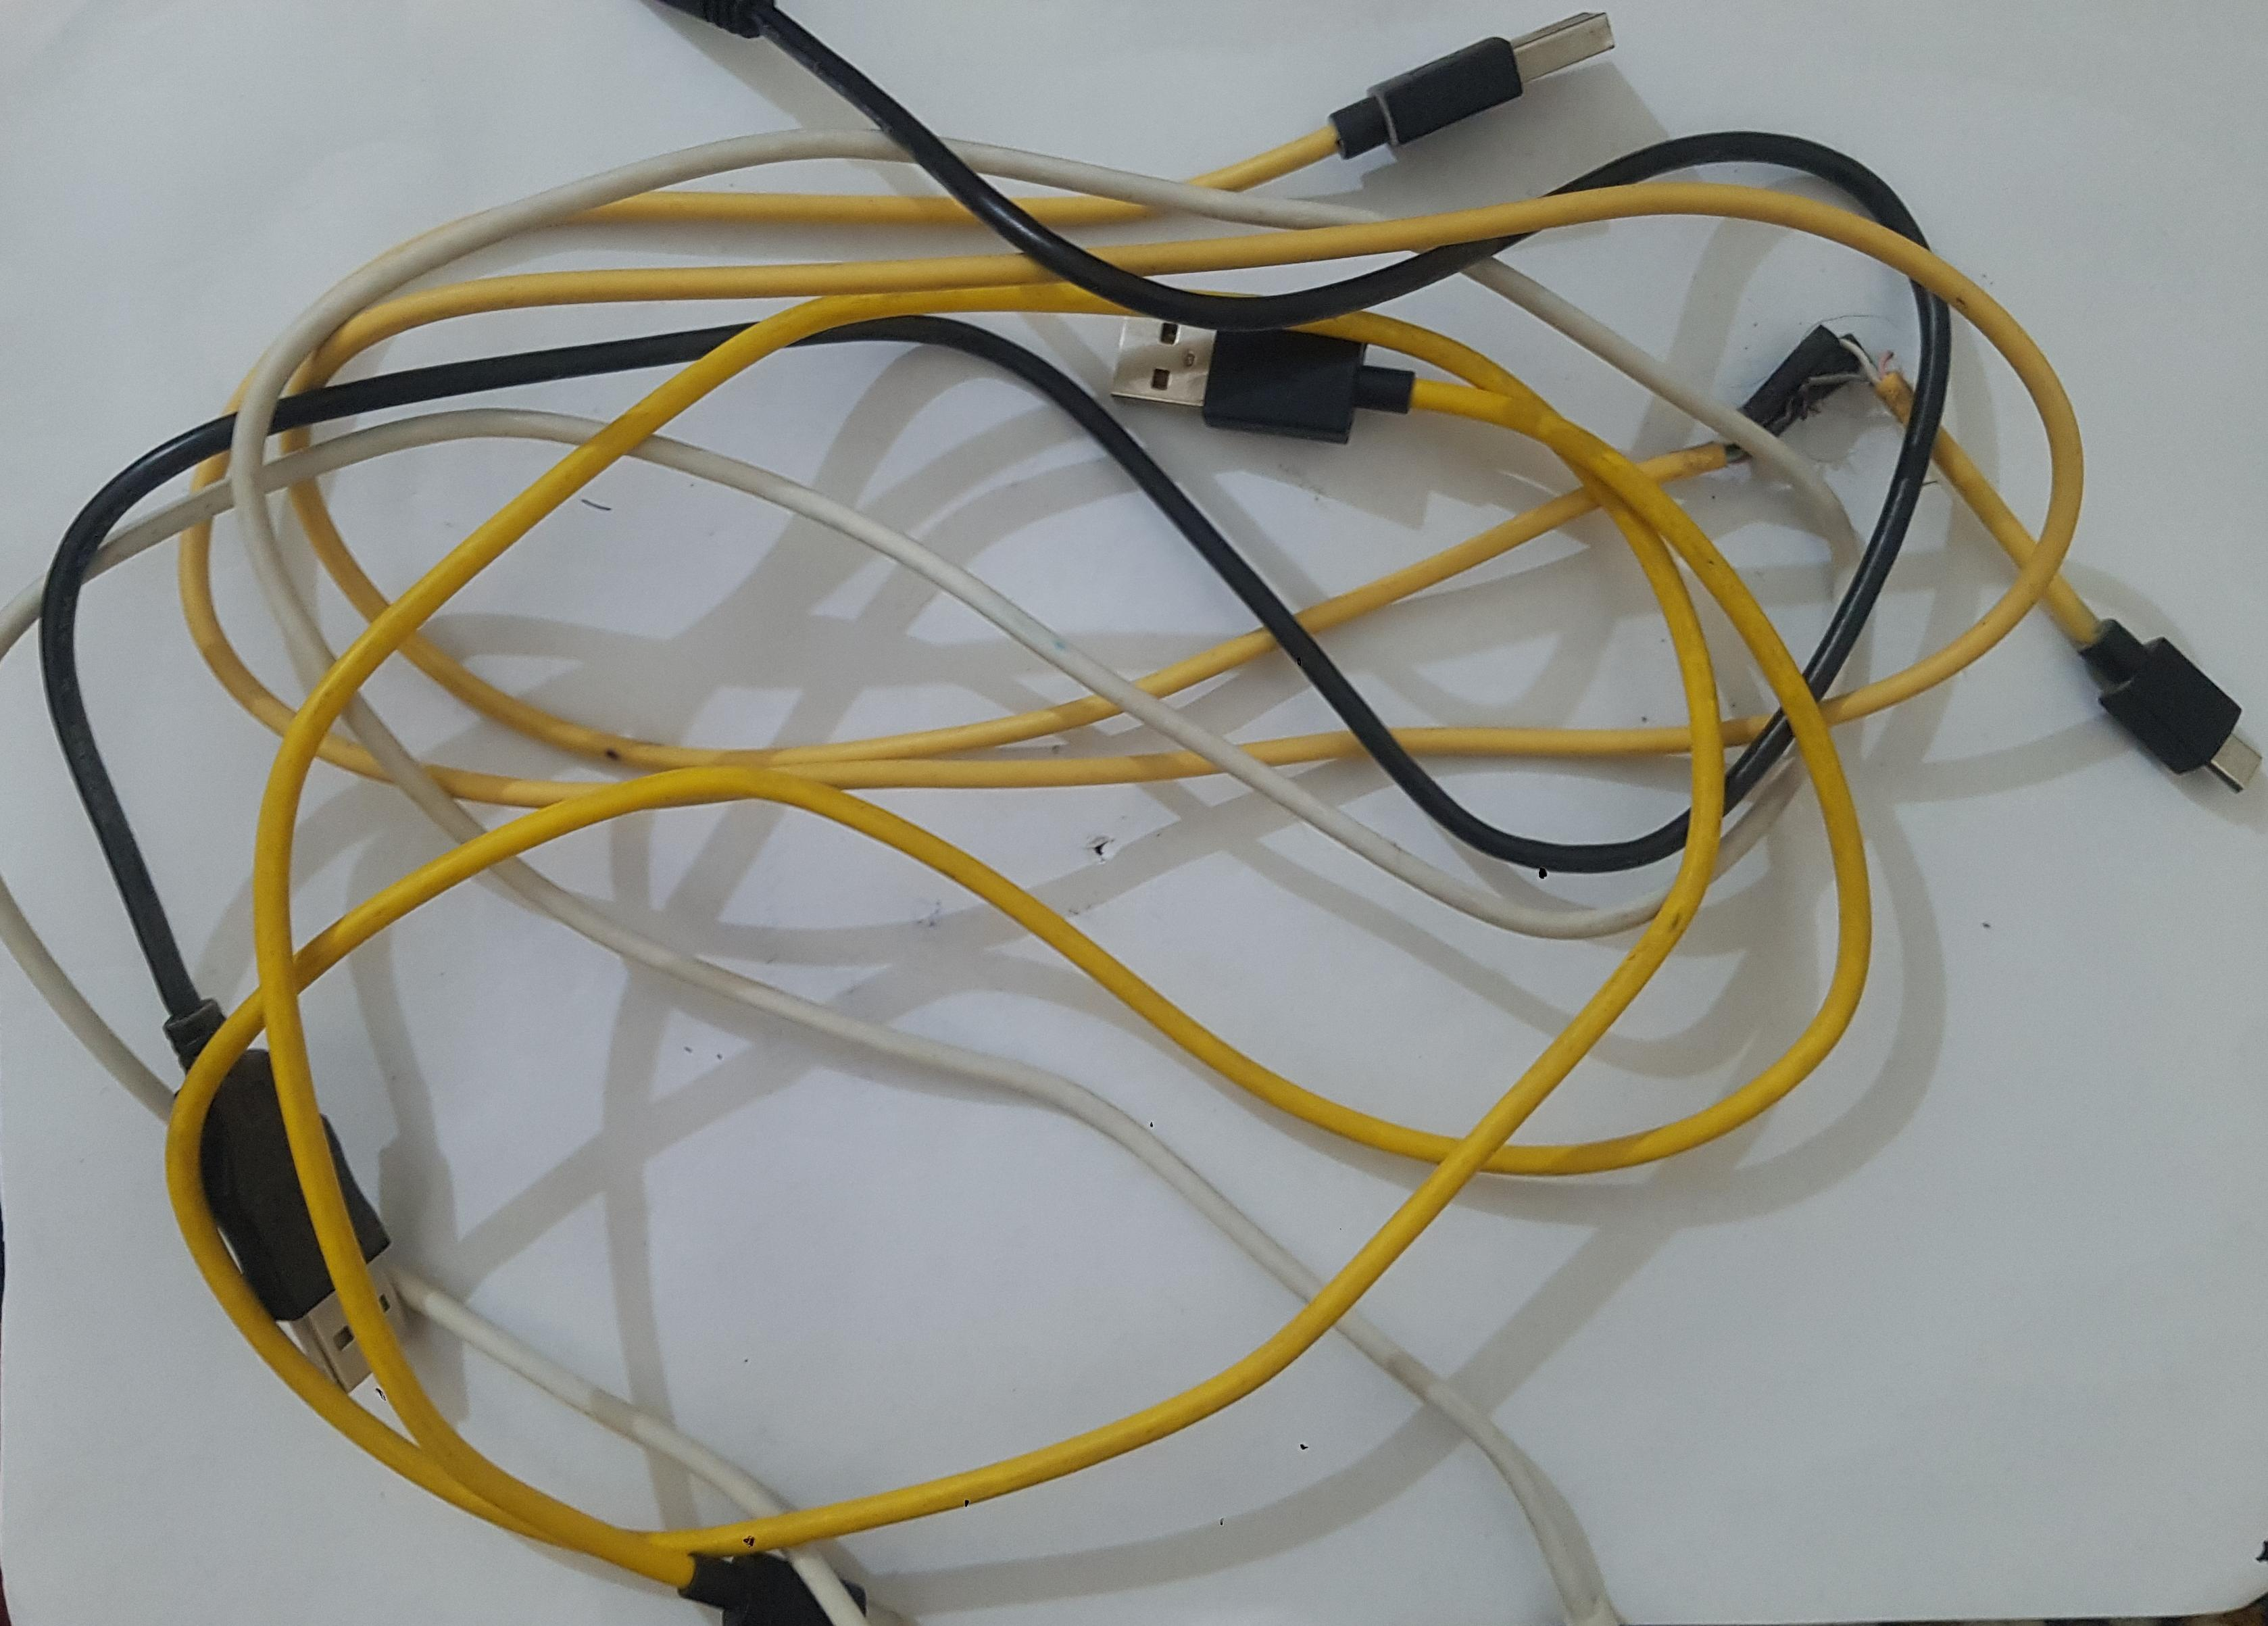electronic: (40, 79, 2113, 1580)
